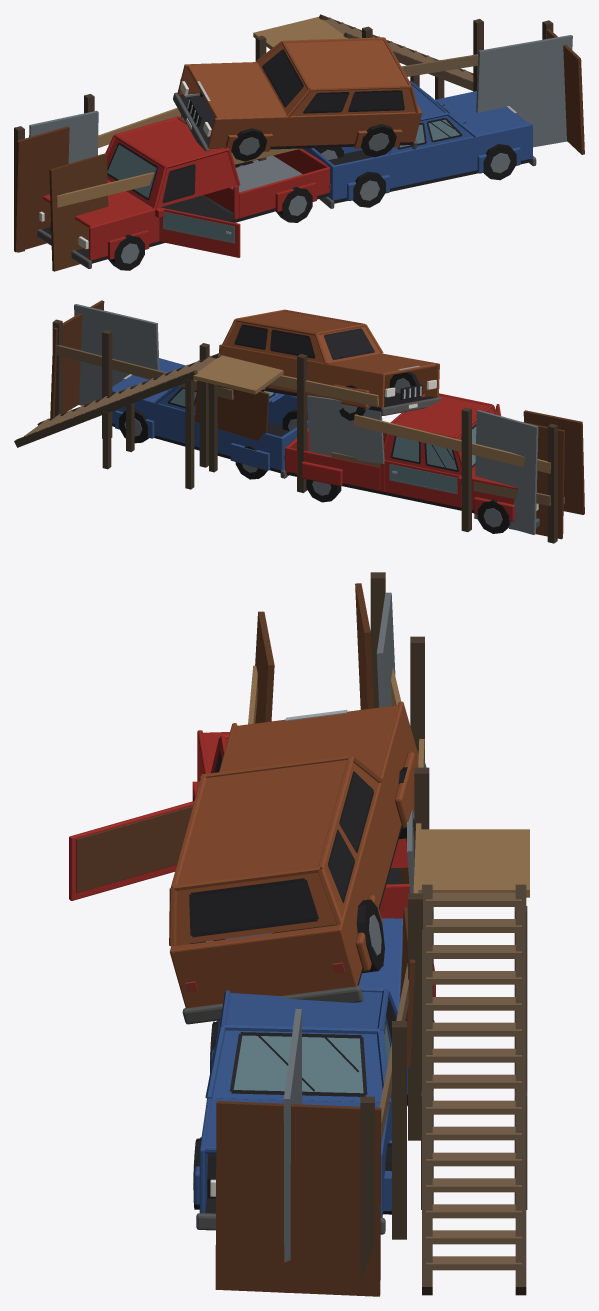
Rendered from car_wall_stack.glb.
The picture shows the model from 3 angles, top to bottom: view 1: azimuth 30°, elevation 25°; view 2: azimuth 150°, elevation 25°; view 3: azimuth 270°, elevation 25°; orthographic projection. The views are drawn at different scales.
Parts seen in each view (by area): view 1: car_wall_stack; view 2: car_wall_stack; view 3: car_wall_stack.
Part boxes in pixels (x1,y1,x2,y2): car_wall_stack: (14,14,584,271); car_wall_stack: (14,300,584,543); car_wall_stack: (69,572,529,1296).
Size of what is drawn, in the model's own units: 11.05 by 3.09 by 4.33.
Materials: 3 (3 with a texture image).
